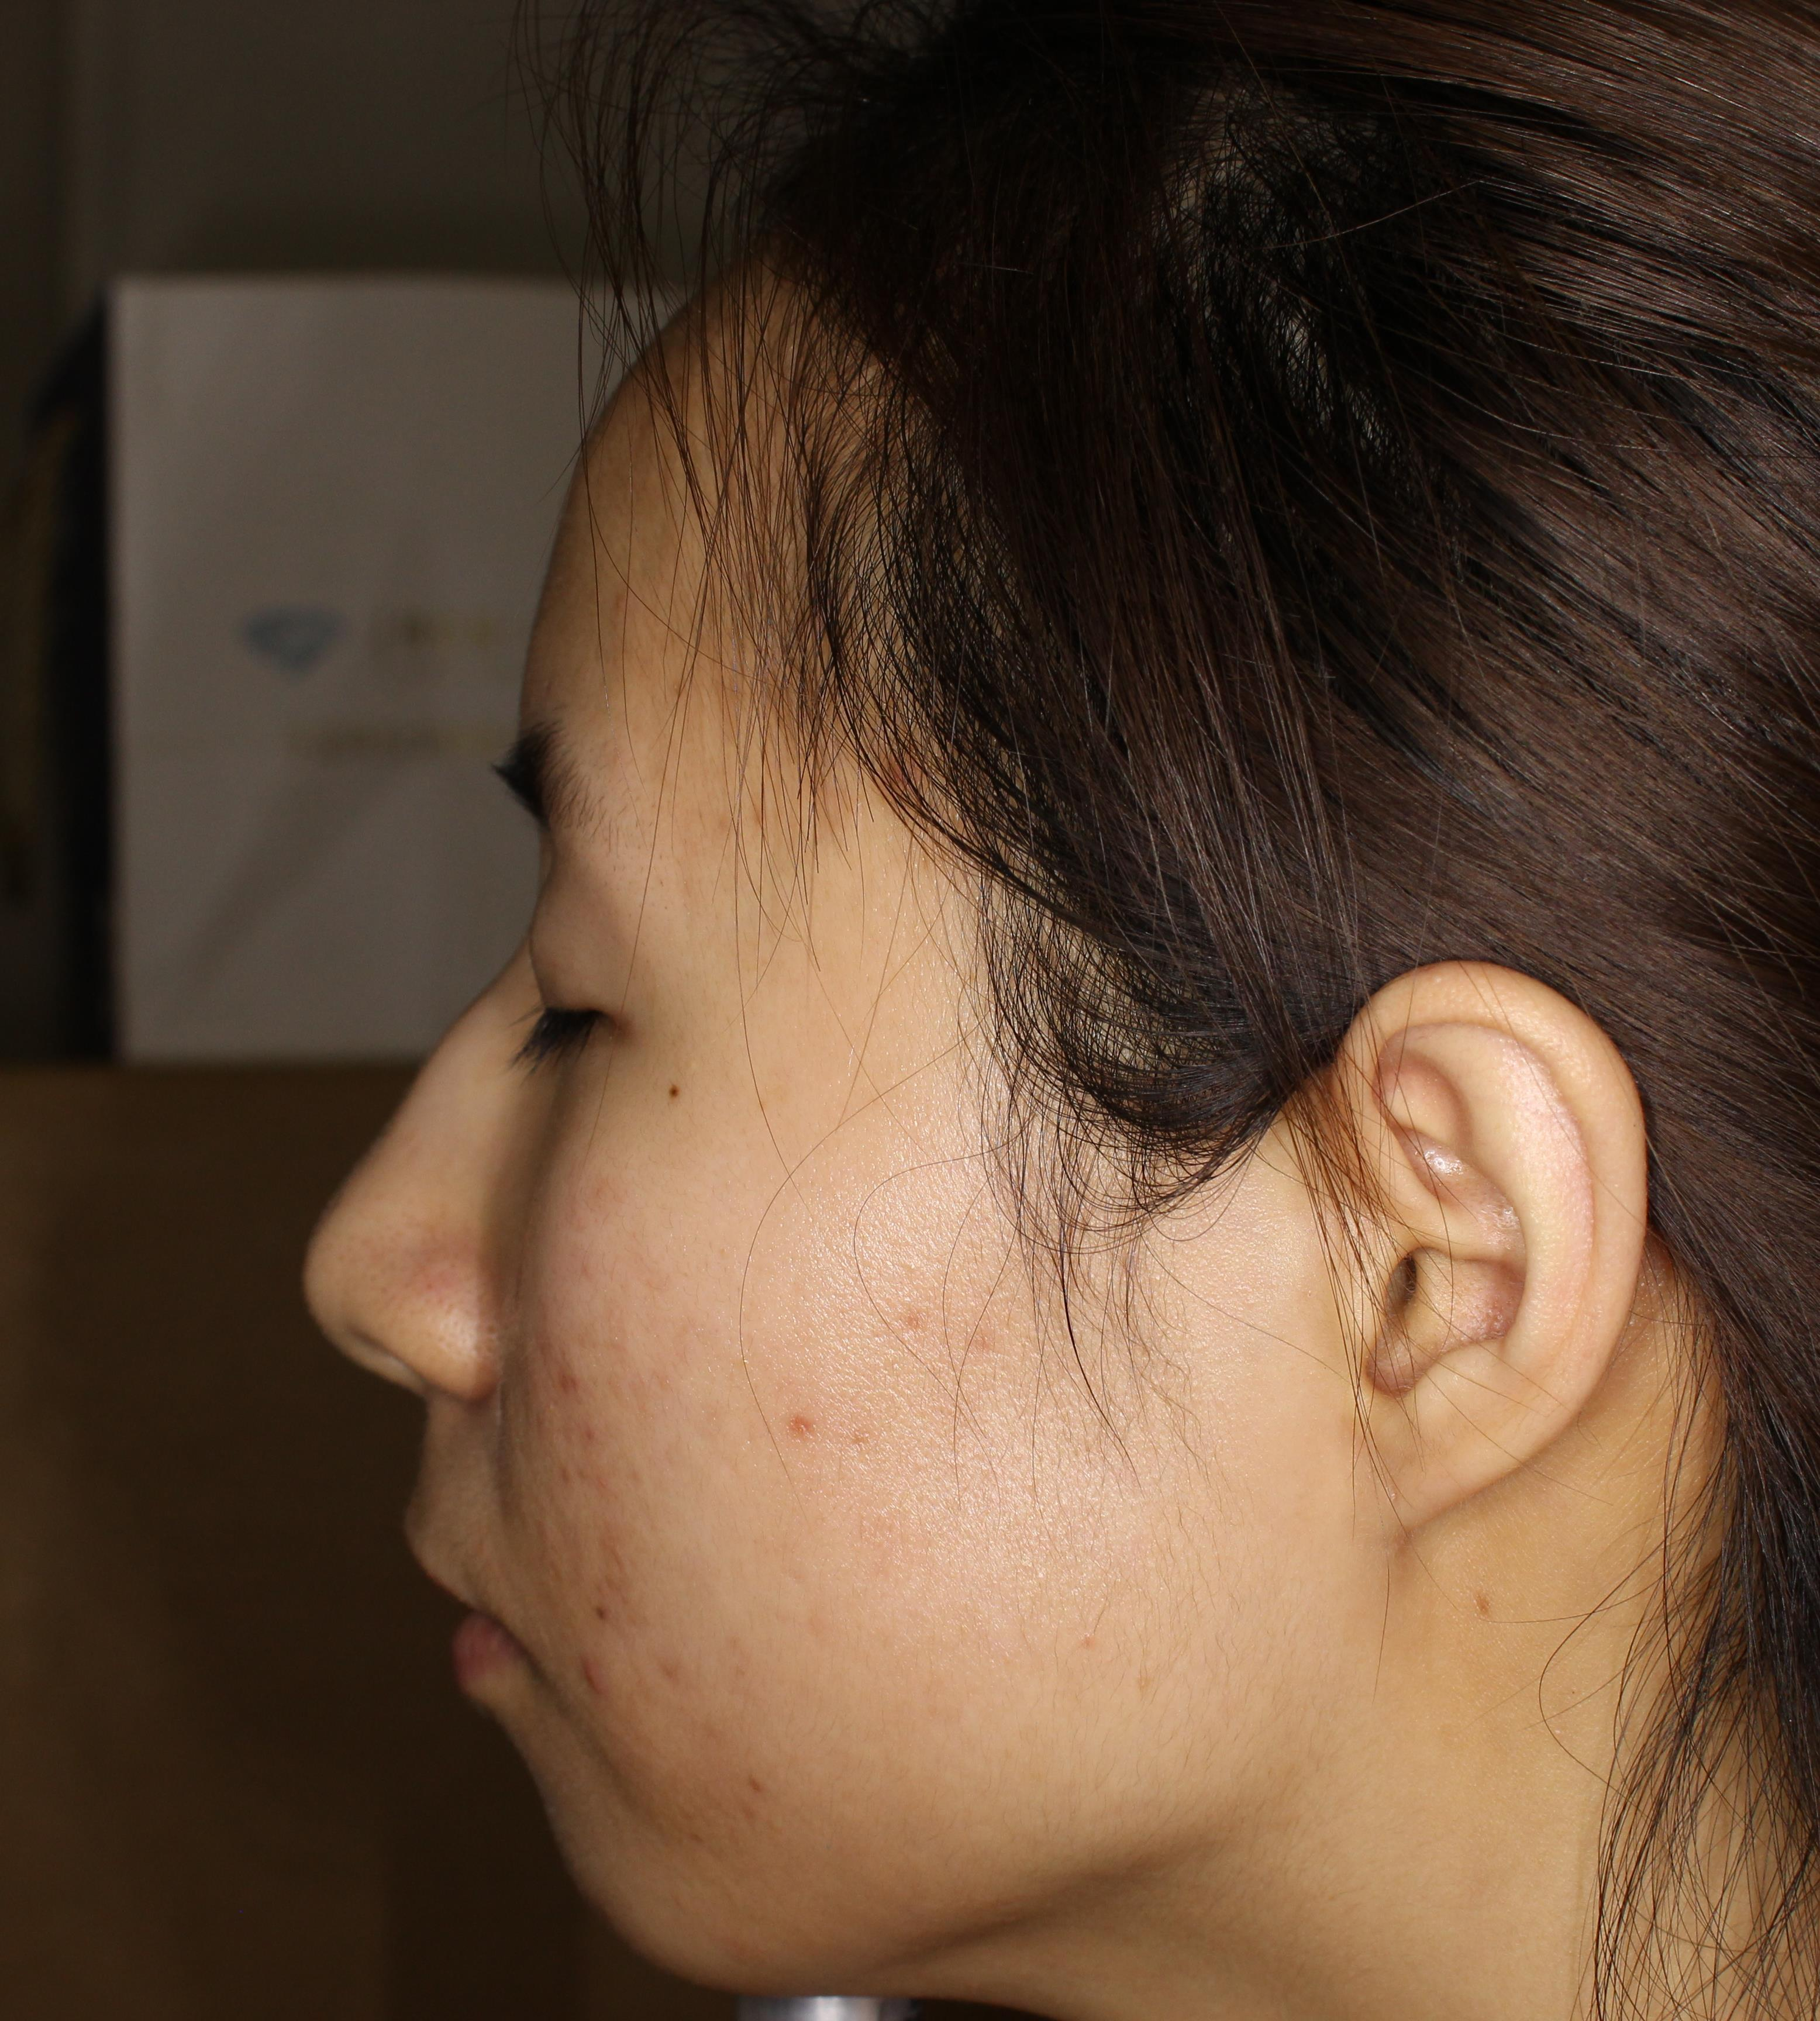fore: (516, 1343, 624, 1410), (574, 1528, 669, 1589), (552, 1635, 624, 1715)
